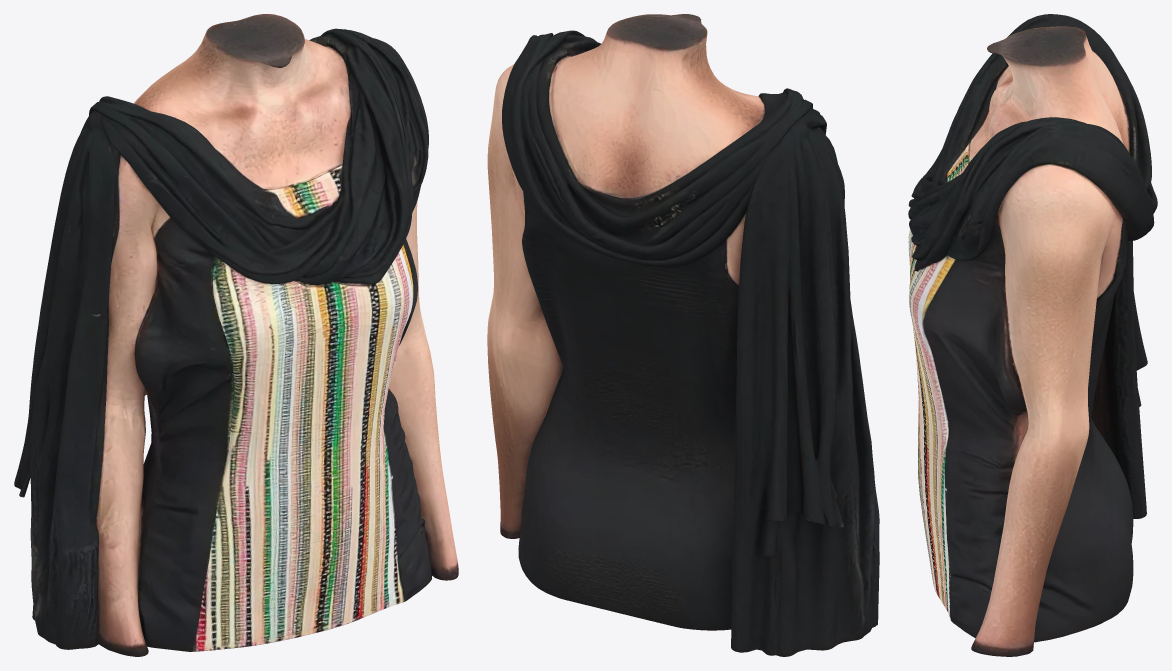
The model's file is ropas.glb.
The picture shows the model from 3 angles, left to right: view 1: azimuth 30°, elevation 25°; view 2: azimuth 150°, elevation 25°; view 3: azimuth 270°, elevation 25°; orthographic projection. The views are drawn at different scales.
Visible parts, largest first — view 1: model; view 2: model; view 3: model.
Boxes of the visible parts, left/top/right/bottom form: model: left=14, top=14, right=458, bottom=656; model: left=487, top=14, right=879, bottom=656; model: left=908, top=14, right=1157, bottom=656.
Bounding box in the file's own units: 1.39 × 1.9 × 0.8054.
Materials: 1 (1 with a texture image).
